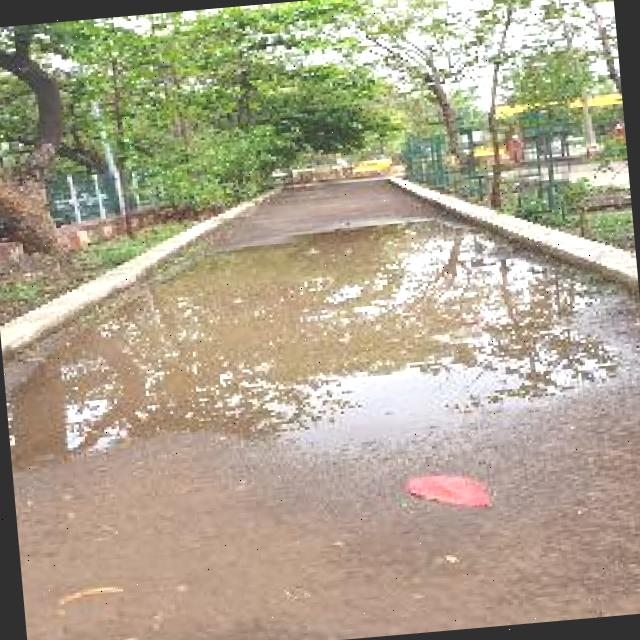stagnation: (2, 204, 518, 507)
